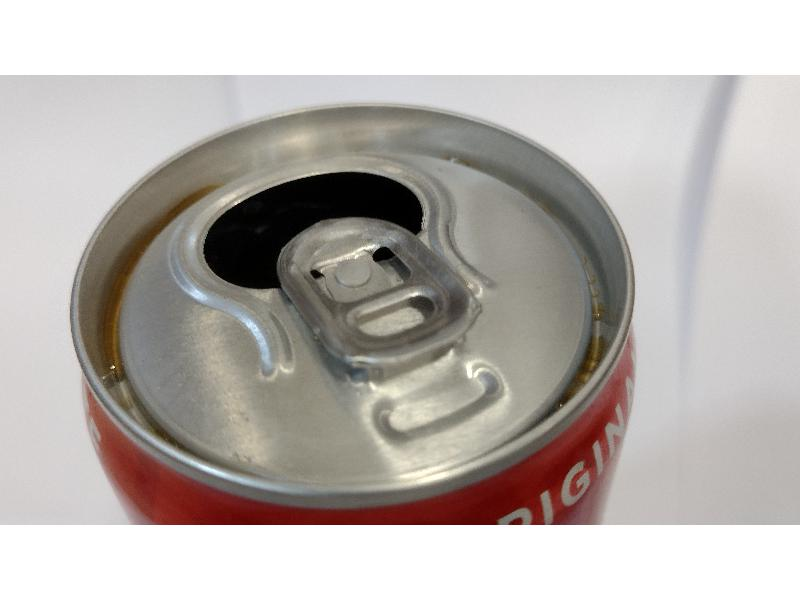can: (64, 96, 645, 520)
